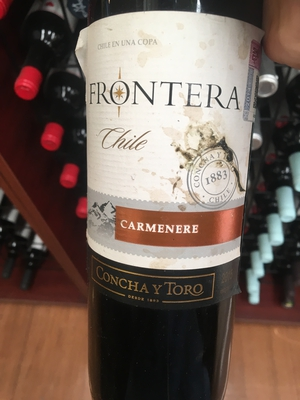frontera carmenere: (78, 6, 264, 400)
